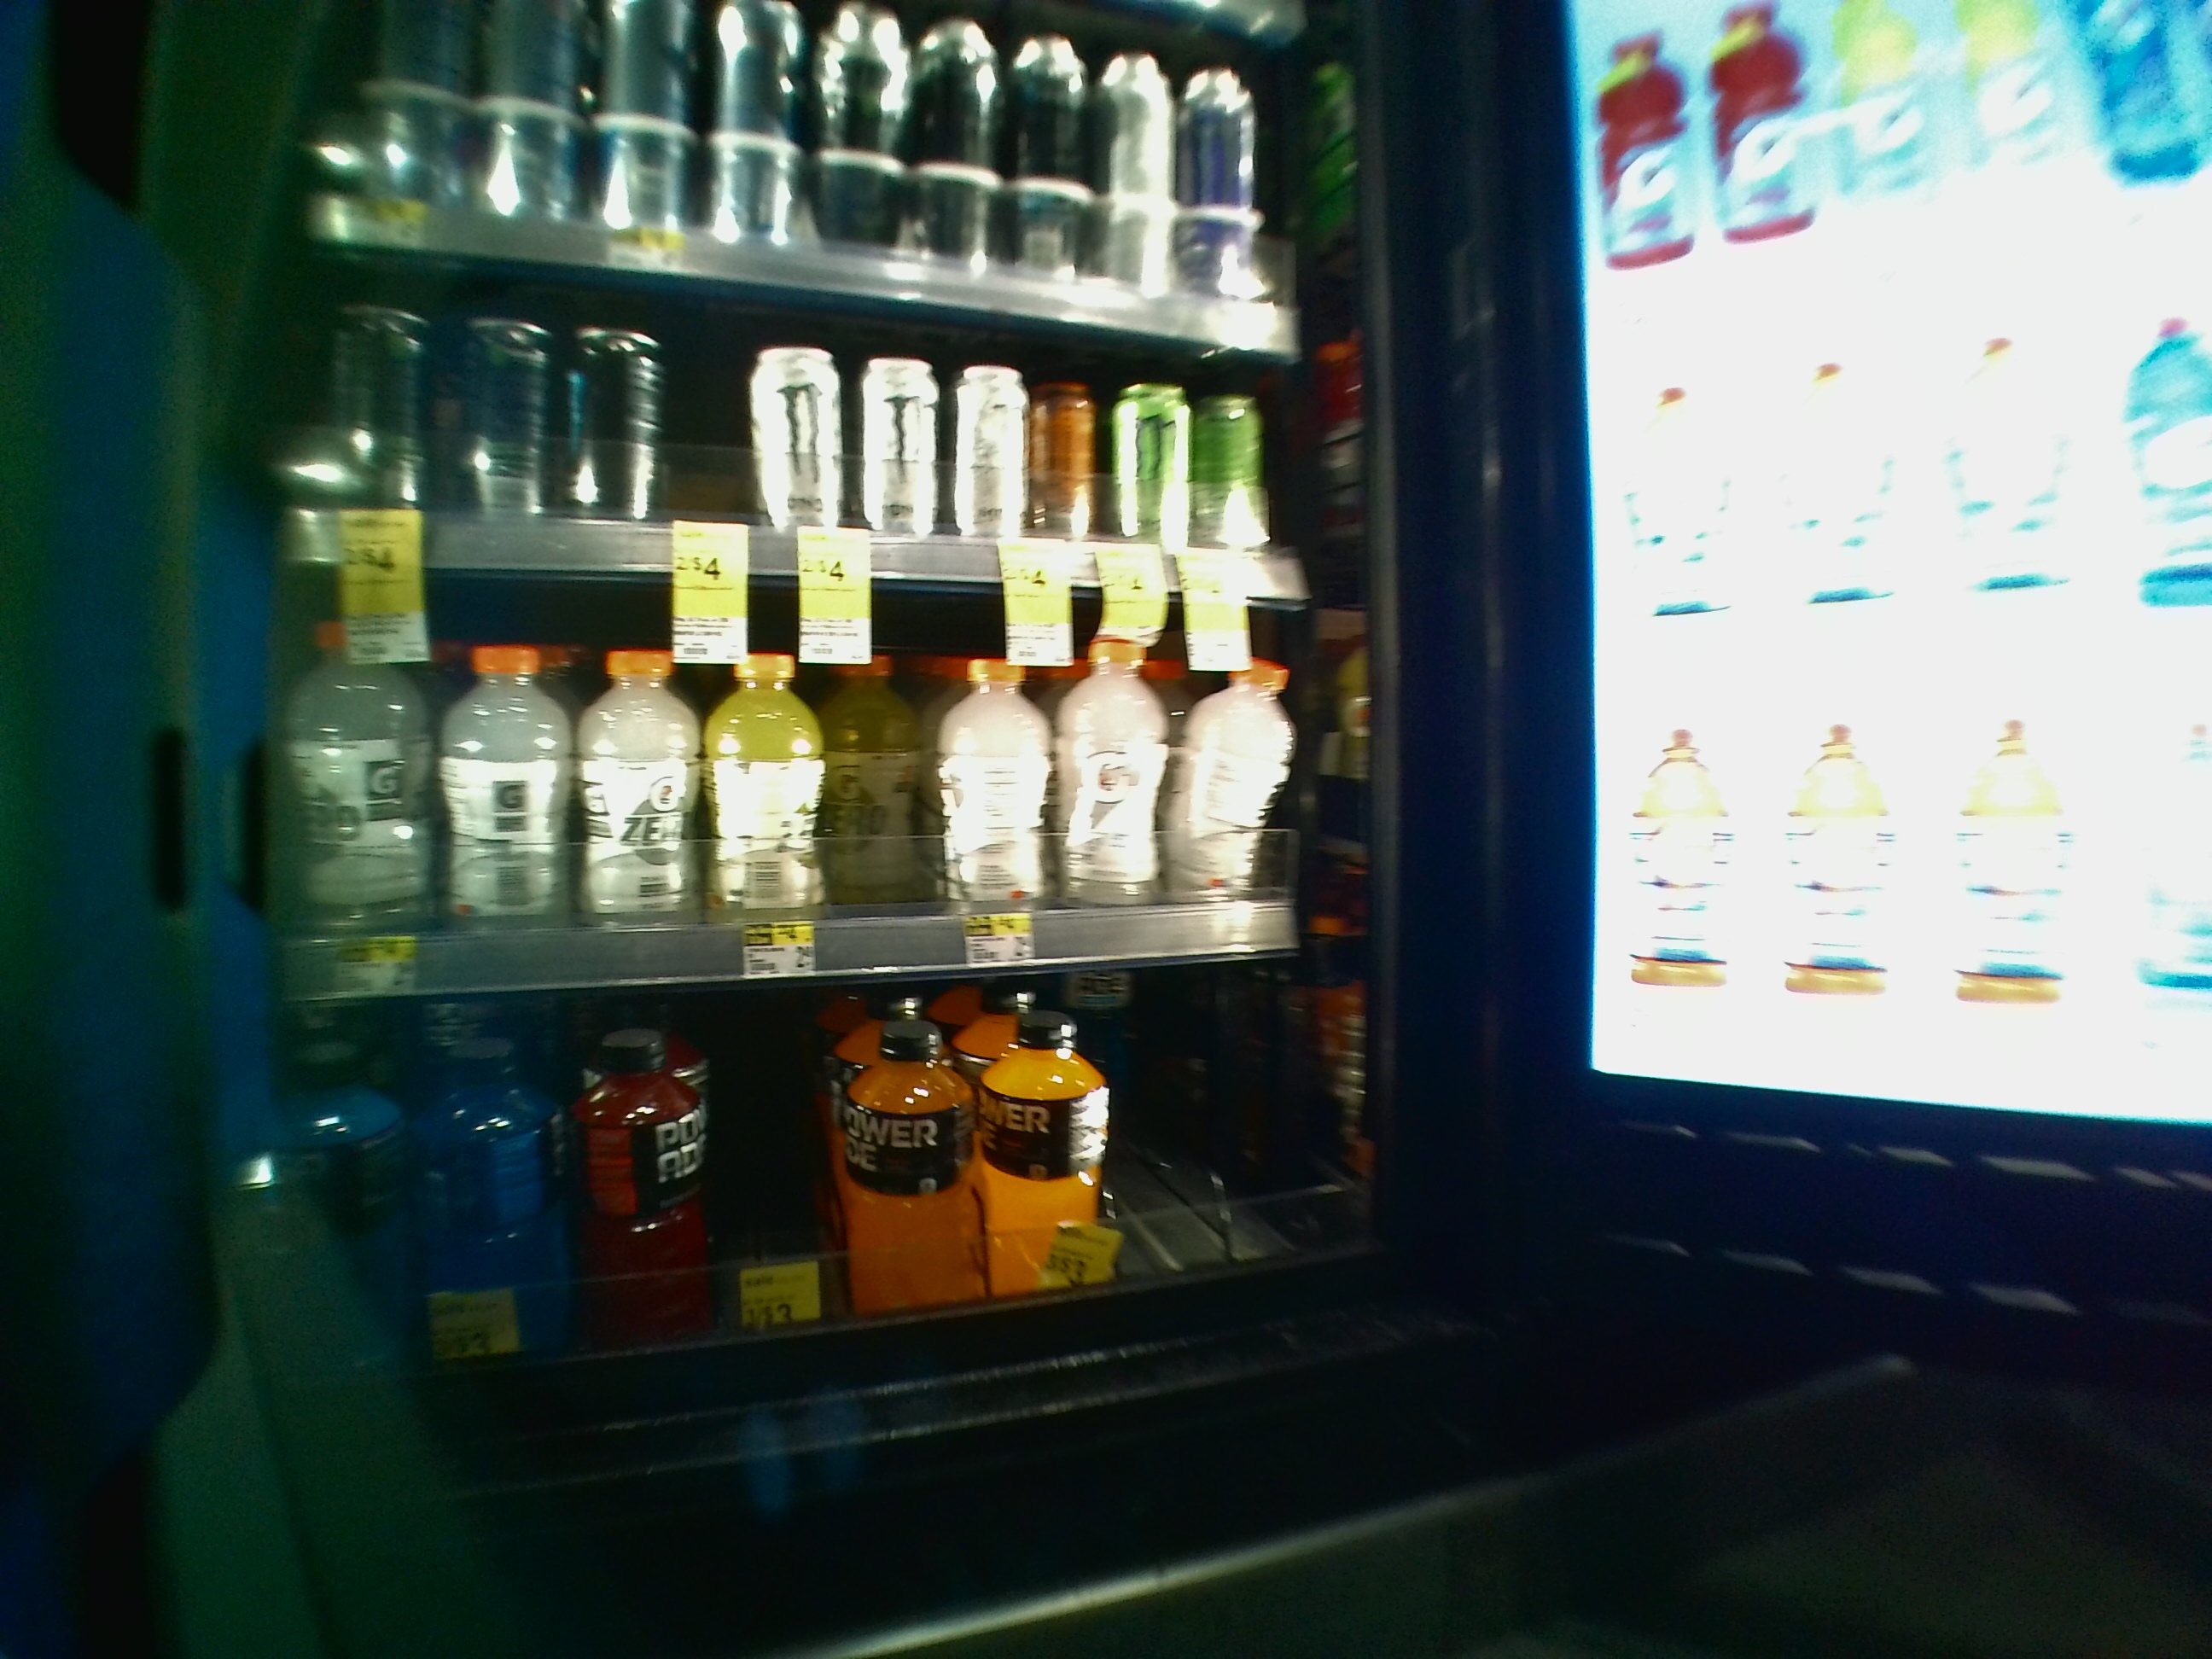shelf: (244, 565, 1400, 972)
